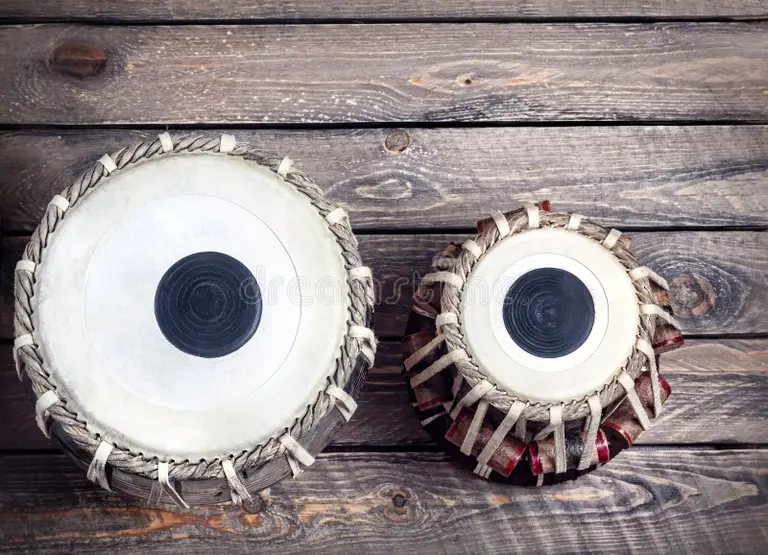tabla: (29, 135, 372, 504), (403, 208, 680, 479)
